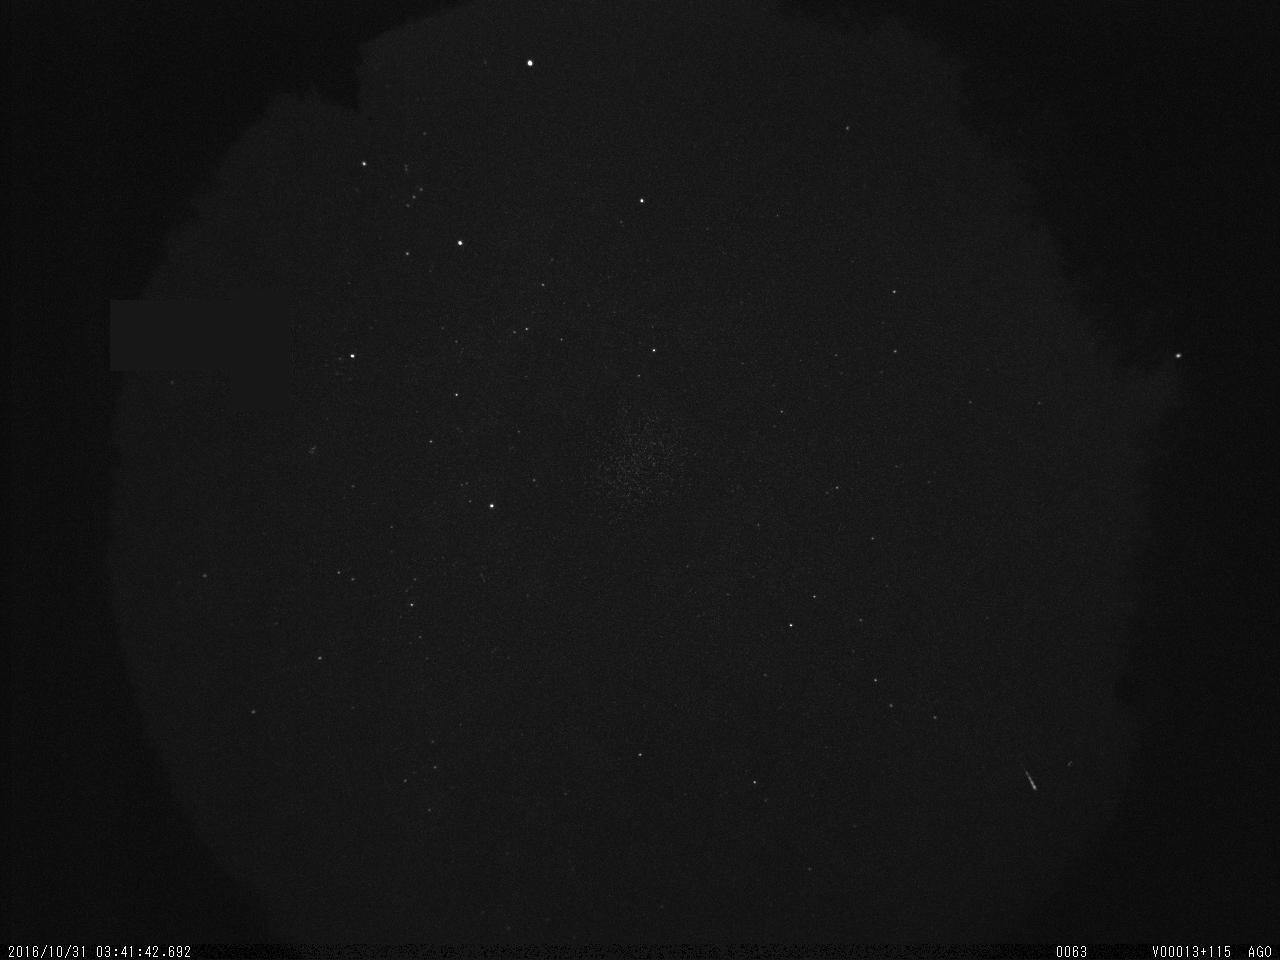meteor: (1015, 764, 1042, 797)
